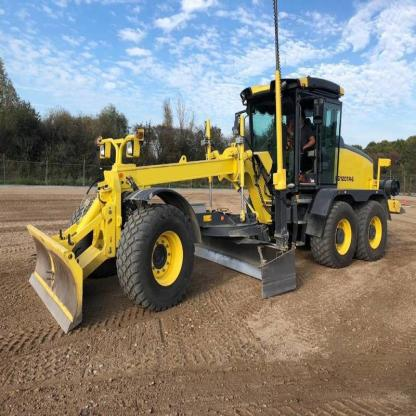bull_dozer/loader/grader: (25, 65, 400, 316)
